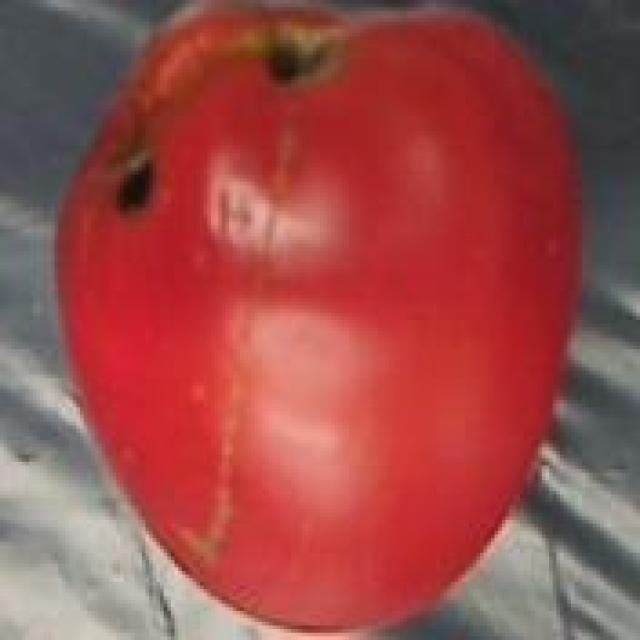overripe tomato: (40, 0, 603, 636)
